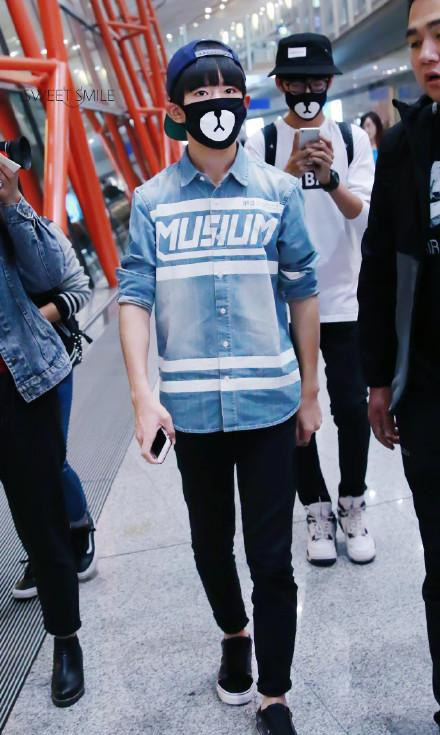NONE: (411, 16, 440, 100), (362, 121, 380, 141)
OK: (185, 81, 252, 148), (280, 73, 331, 121)
